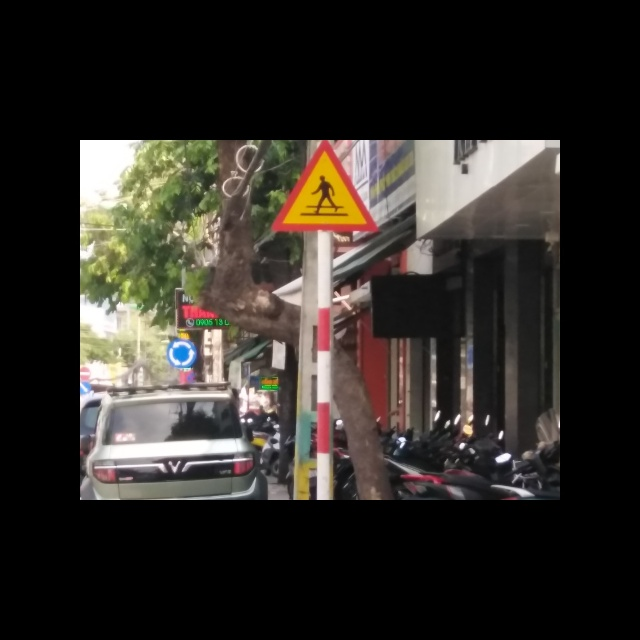Nơi giao nhau chạy theo vòng xuyến: (166, 337, 199, 369)
Đường người đi bộ sang đường: (269, 140, 378, 232)
